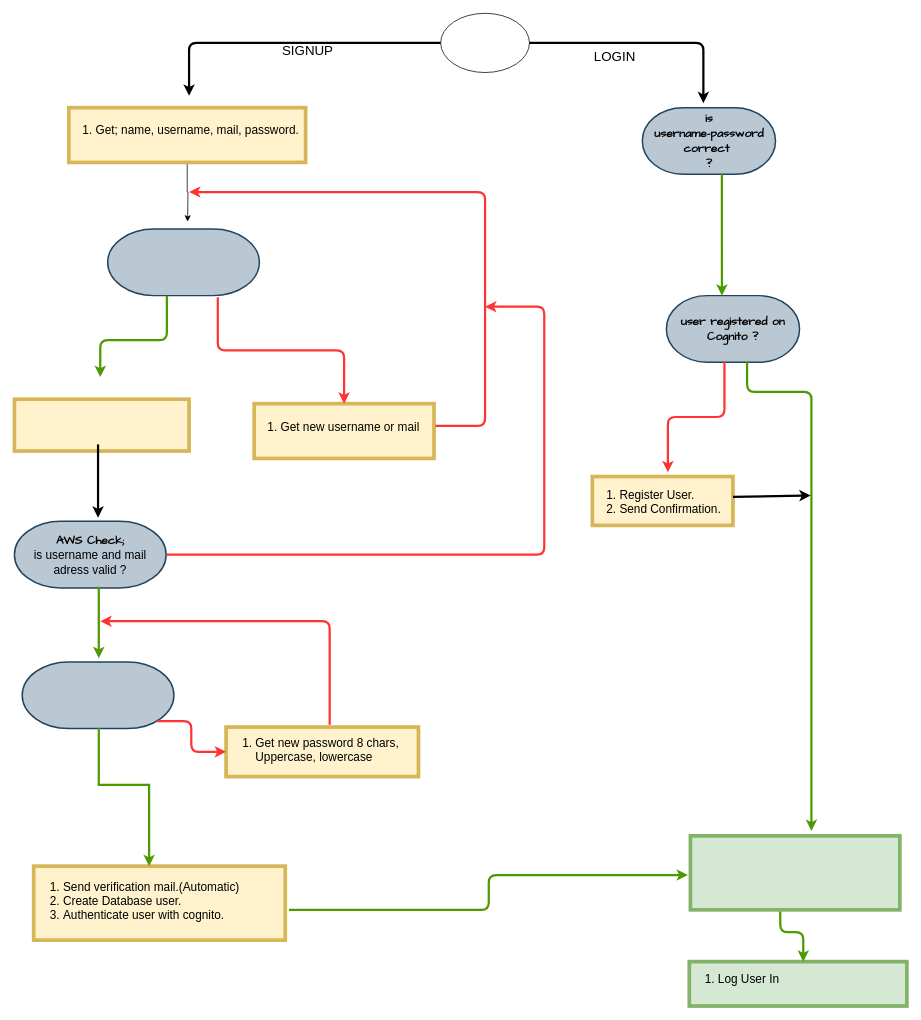
This 921x1020 diagram has some shape labels left out. Here are the shapes that lost their labels. From the top down, the centre of each, then its label:
At point 484,43: "User".
At point 183,262: "Database Check: is username and mail adress valid ?".
At point 101,425: "Register AWS Cognito".
At point 97,695: "AWS Check; is password valid ?".
At point 794,872: "Get and Save Cognito tokens to Database.".
